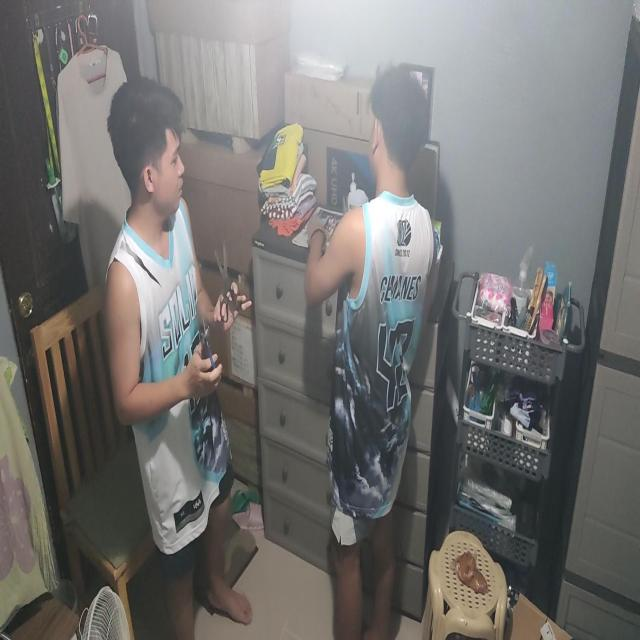scissor: (215, 242, 248, 322), (197, 318, 215, 380)
